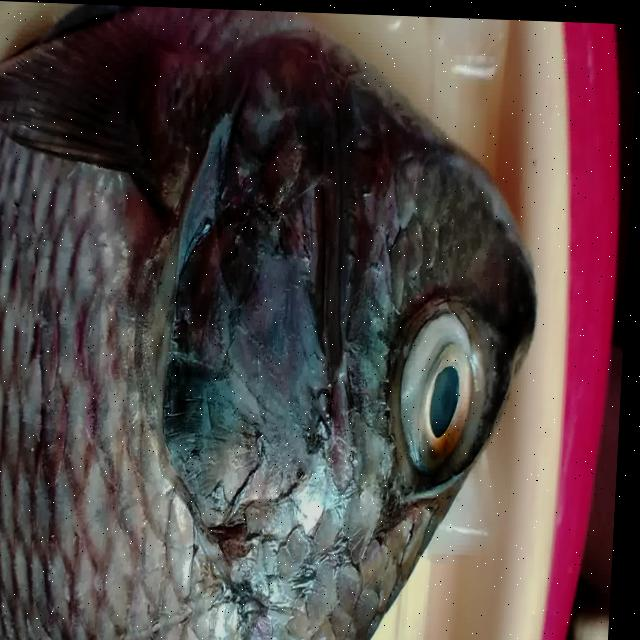Fresh: (0, 2, 340, 640), (399, 293, 508, 484)
